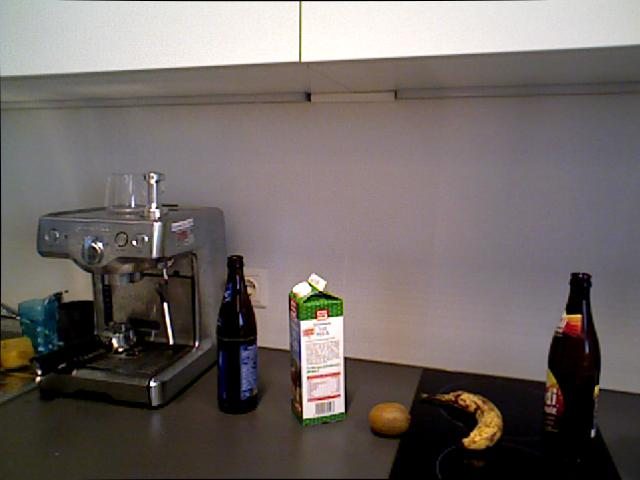bench: (542, 271, 601, 445), (286, 270, 350, 430), (215, 254, 259, 414)
handbag: (103, 167, 169, 219), (15, 298, 61, 353), (58, 298, 98, 355)
motorcycle: (420, 389, 503, 450)
